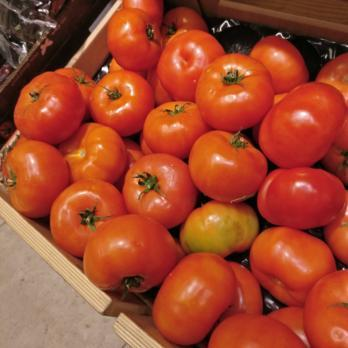Tomato: (229, 77, 348, 348), (106, 1, 239, 201), (12, 72, 96, 210)
